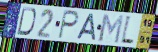2: (35, 8, 55, 39)
A: (75, 13, 96, 42)
D: (15, 6, 37, 37)
L: (119, 14, 135, 46)
M: (98, 13, 125, 45)
P: (57, 9, 80, 41)
